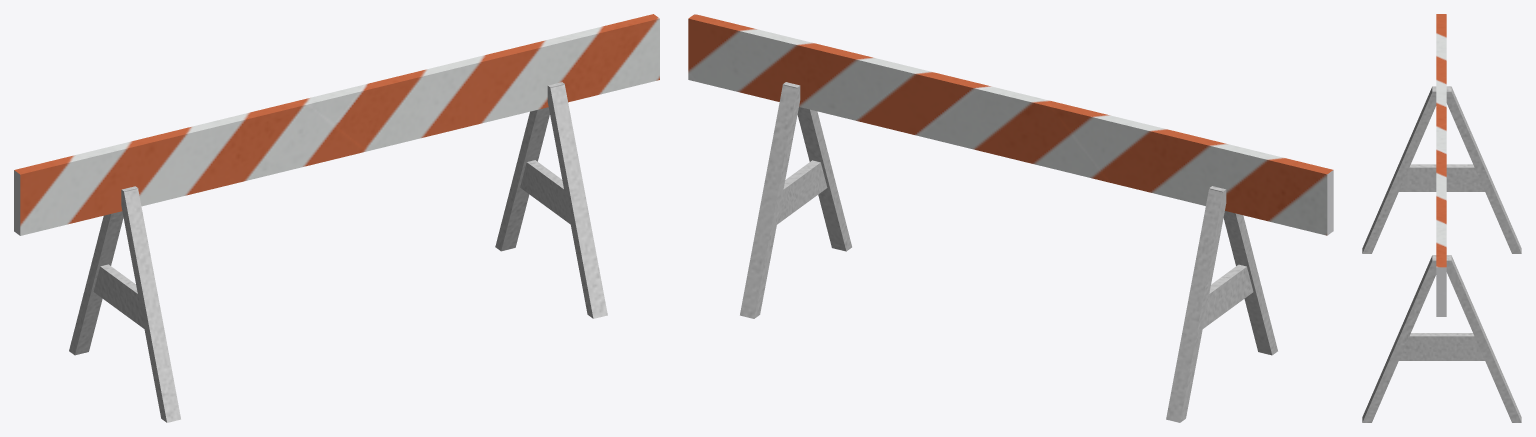
File: A_Barricade1S.fbx
The picture shows the model from 3 angles, left to right: view 1: azimuth 30°, elevation 25°; view 2: azimuth 150°, elevation 25°; view 3: azimuth 270°, elevation 25°; orthographic projection. The views are drawn at different scales.
Visible parts, largest first — view 1: A_Barricade1S; view 2: A_Barricade1S; view 3: A_Barricade1S.
Part boxes in pixels (bbox=[...]): A_Barricade1S: bbox=[14, 14, 659, 422]; A_Barricade1S: bbox=[688, 14, 1333, 422]; A_Barricade1S: bbox=[1362, 14, 1521, 422].
Size of the model in its own units: 246 by 88.1 by 65.44.
Materials: 1 (1 with a texture image).
